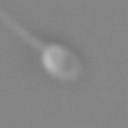normal: (1, 2, 47, 50)
